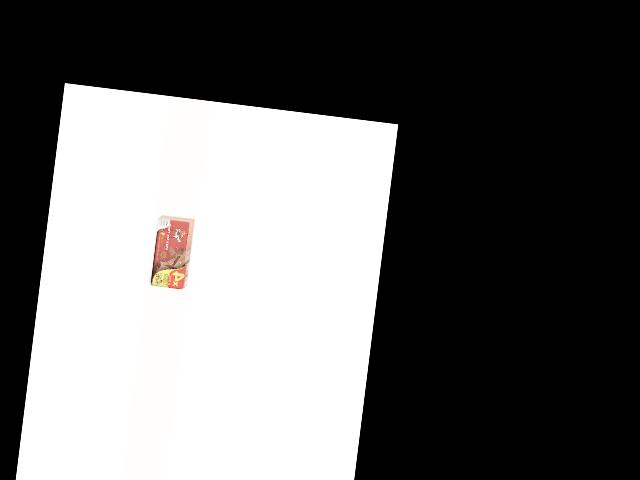chocolate: (148, 215, 194, 290)
